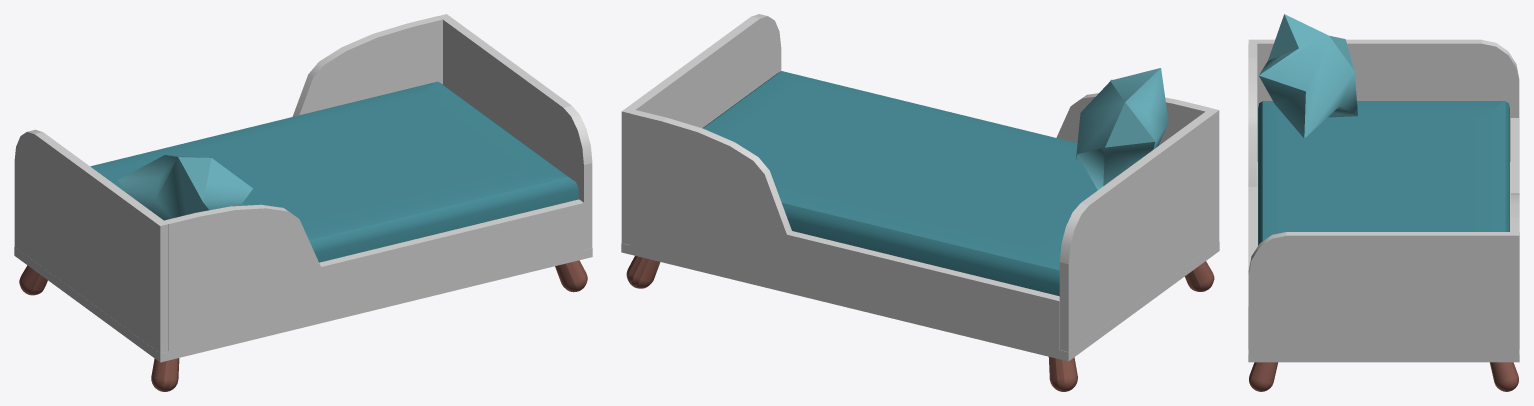
File: Furn5_bed_color2.fbx
The picture shows the model from 3 angles, left to right: view 1: azimuth 30°, elevation 25°; view 2: azimuth 150°, elevation 25°; view 3: azimuth 270°, elevation 25°; orthographic projection. The views are drawn at different scales.
Visible parts, largest first — view 1: Куб.218; view 2: Куб.218; view 3: Куб.218.
Part boxes in pixels (x1,y1,x2,y2): Куб.218: (14,14,592,391); Куб.218: (621,14,1219,391); Куб.218: (1248,14,1519,391).
Size of the model in its own units: 390 by 188 by 228.
